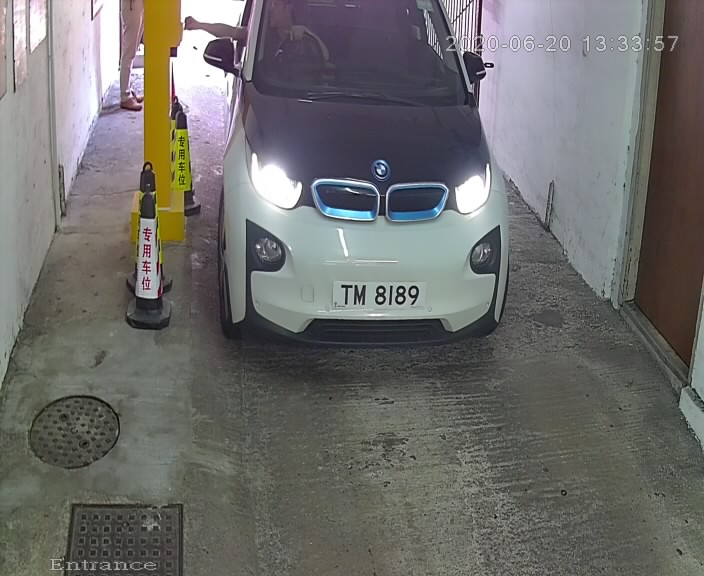privatecar: (210, 3, 524, 381)
